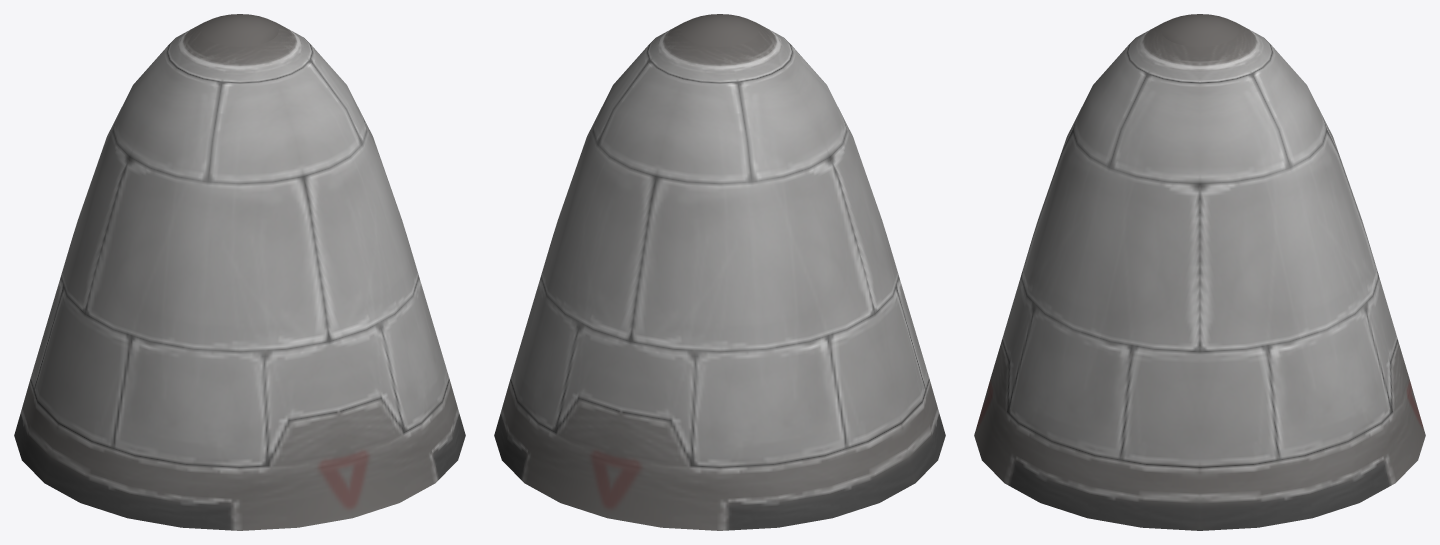
File: AgenaNoseCone.dae
The picture shows the model from 3 angles, left to right: view 1: azimuth 30°, elevation 25°; view 2: azimuth 150°, elevation 25°; view 3: azimuth 270°, elevation 25°; orthographic projection.
Parts seen in each view (by area): view 1: polySurface60; view 2: polySurface60; view 3: polySurface60.
Boxes of the visible parts, bbox=[...] form: polySurface60: bbox=[14, 14, 465, 530]; polySurface60: bbox=[494, 14, 945, 530]; polySurface60: bbox=[974, 14, 1425, 530].
Bounding box in the file's own units: 0.9376 × 0.949 × 0.9376.
